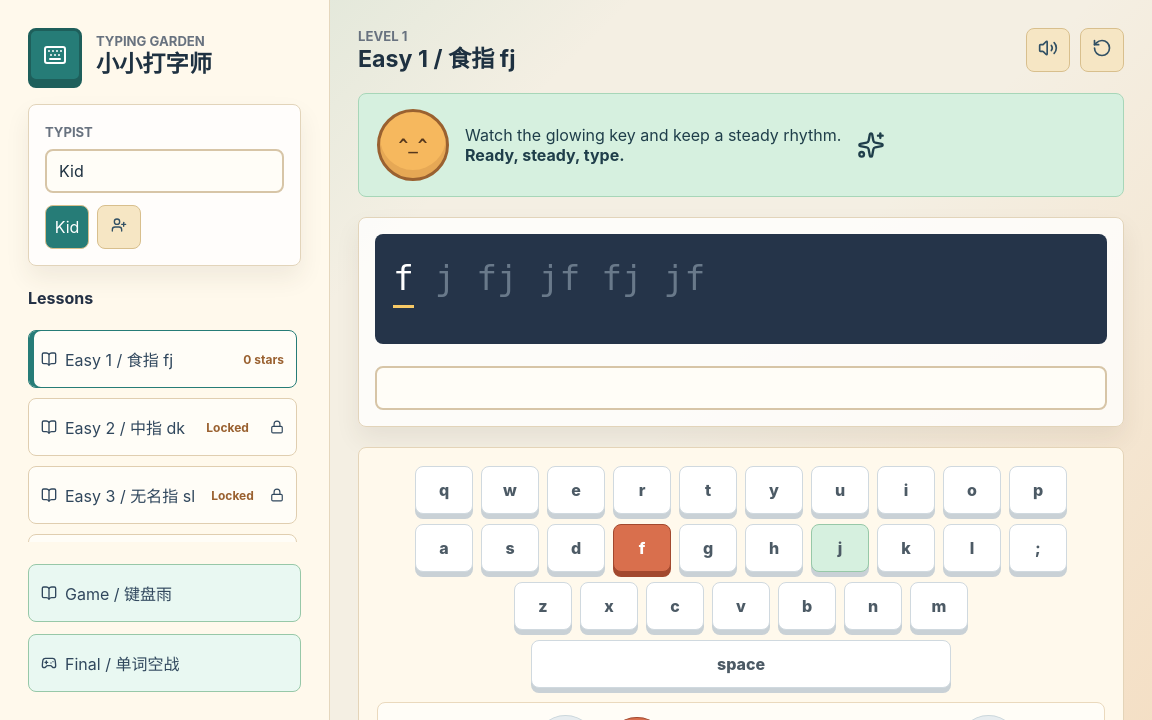
Test case: App › shows the final word plane game unlocked by default
Click the button "Final / 单词空战" at (164, 663), box [28,634,301,692]
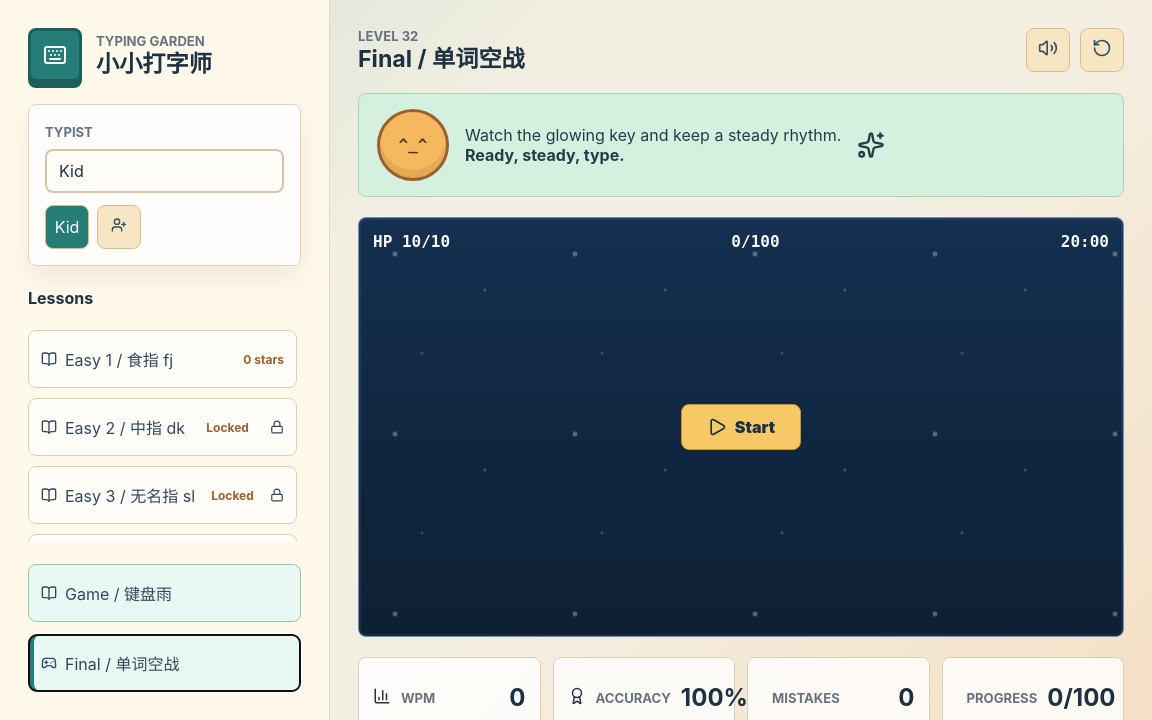
Expected: the text "Watch the glowing key and keep a steady rhythm." is shown, [465,125,841,145]
Now the button "Start" is enabled, box [681,404,801,450]
